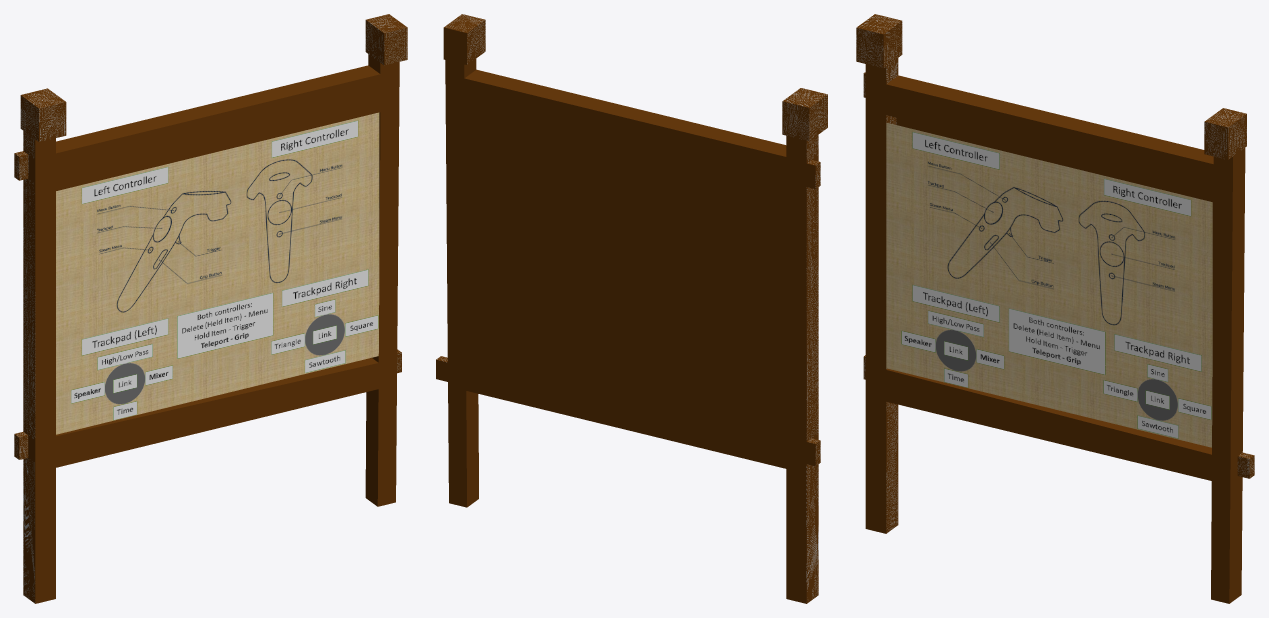
File: sign3.dae
3 views of the same model, side by side, from view 1: azimuth 30°, elevation 25°; view 2: azimuth 150°, elevation 25°; view 3: azimuth 330°, elevation 25° (orthographic).
Visible parts, largest first — view 1: Camp_Milton_Sign_3 (×5); view 2: Camp_Milton_Sign_3 (×3); view 3: Camp_Milton_Sign_3 (×5).
Part boxes in pixels (x1,y1,x2,y2): Camp_Milton_Sign_3 (×5): (14,14,407,603); Camp_Milton_Sign_3 (×3): (436,14,827,603); Camp_Milton_Sign_3 (×5): (856,14,1246,603).
Bounding box in the file's own units: 1.3 × 0.1092 × 1.62.
